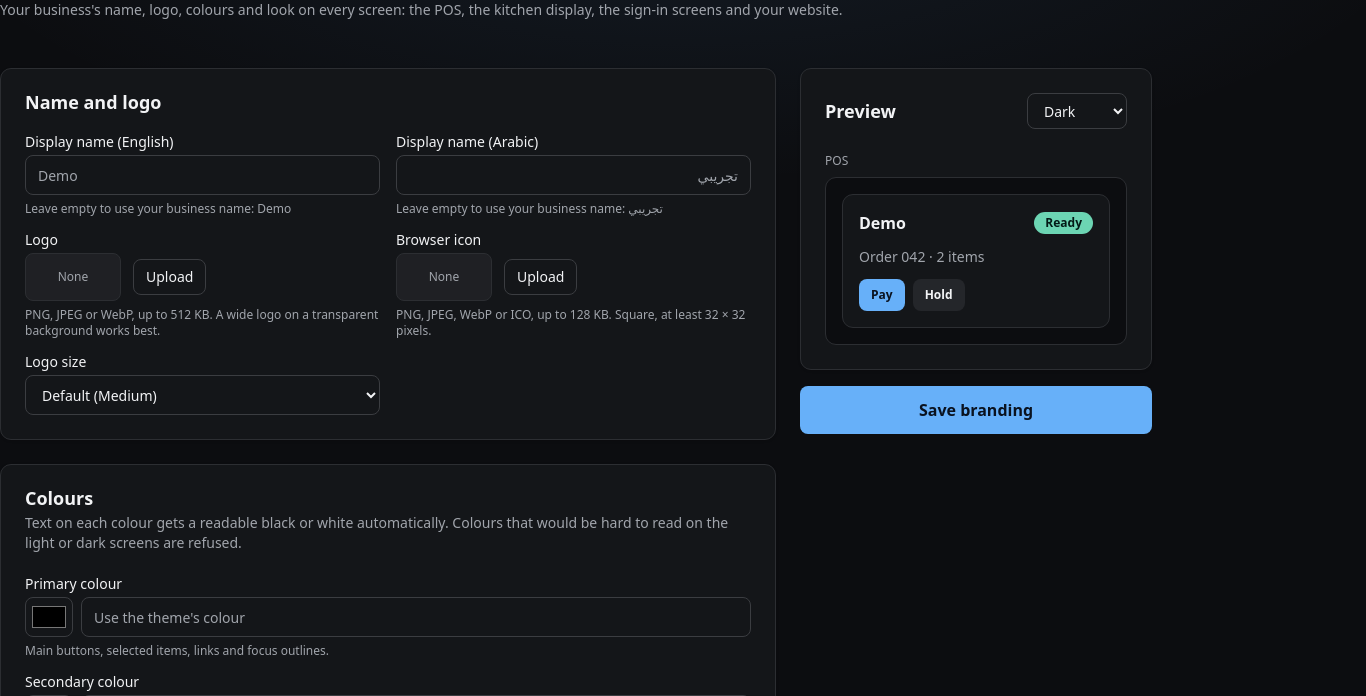
Test case: branding page › saves colours, look and a screen override, and previews them
In the field named "Primary colour (hex)": (416, 617) [81,597,751,637], type "#2563EB"
(page scrolled)
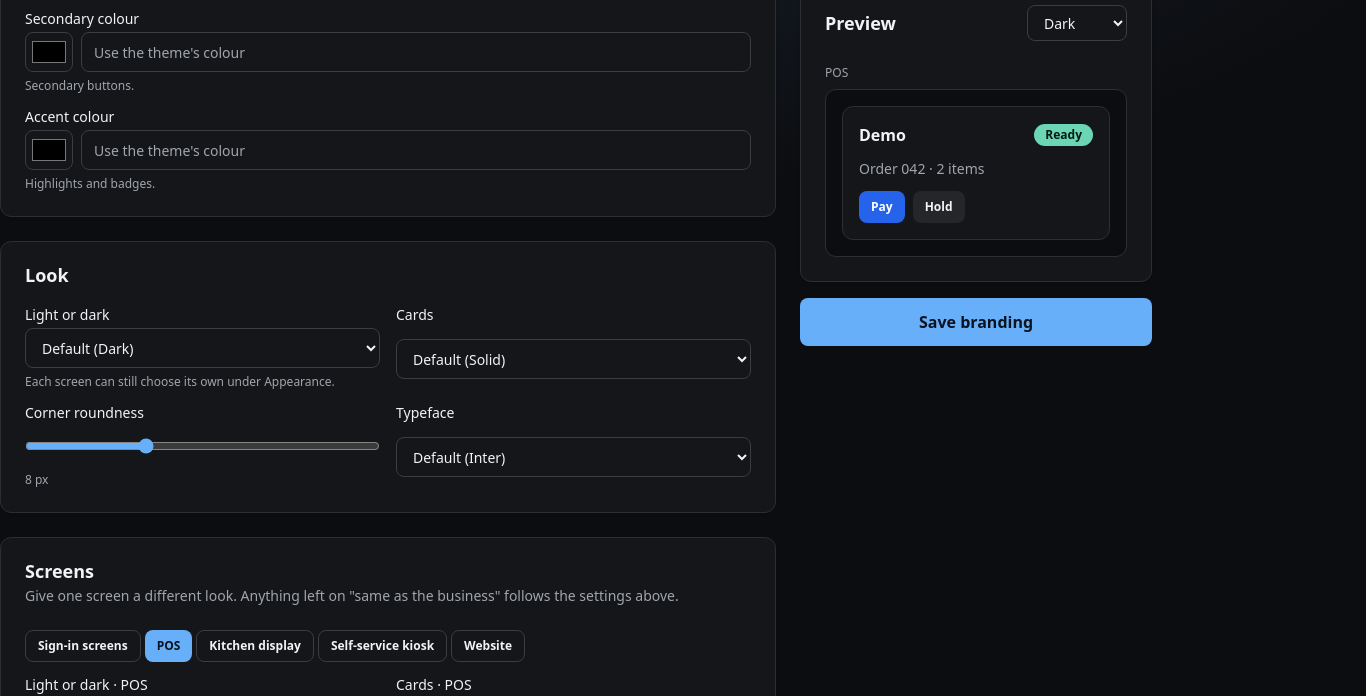
Select "Light" in the dropdown labelled "Light or dark": (202, 348) [25,328,380,368]
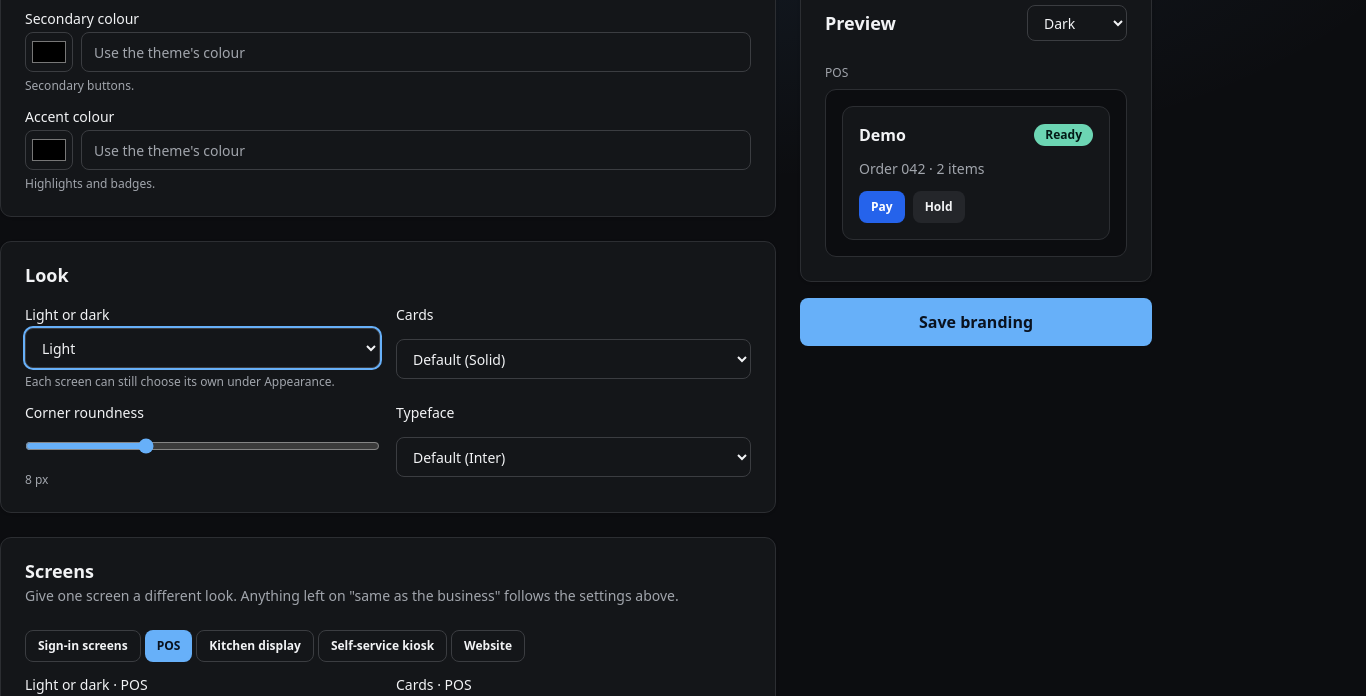
Select "Glass (translucent)" in the dropdown labelled "Cards": (574, 359) [396,339,751,379]
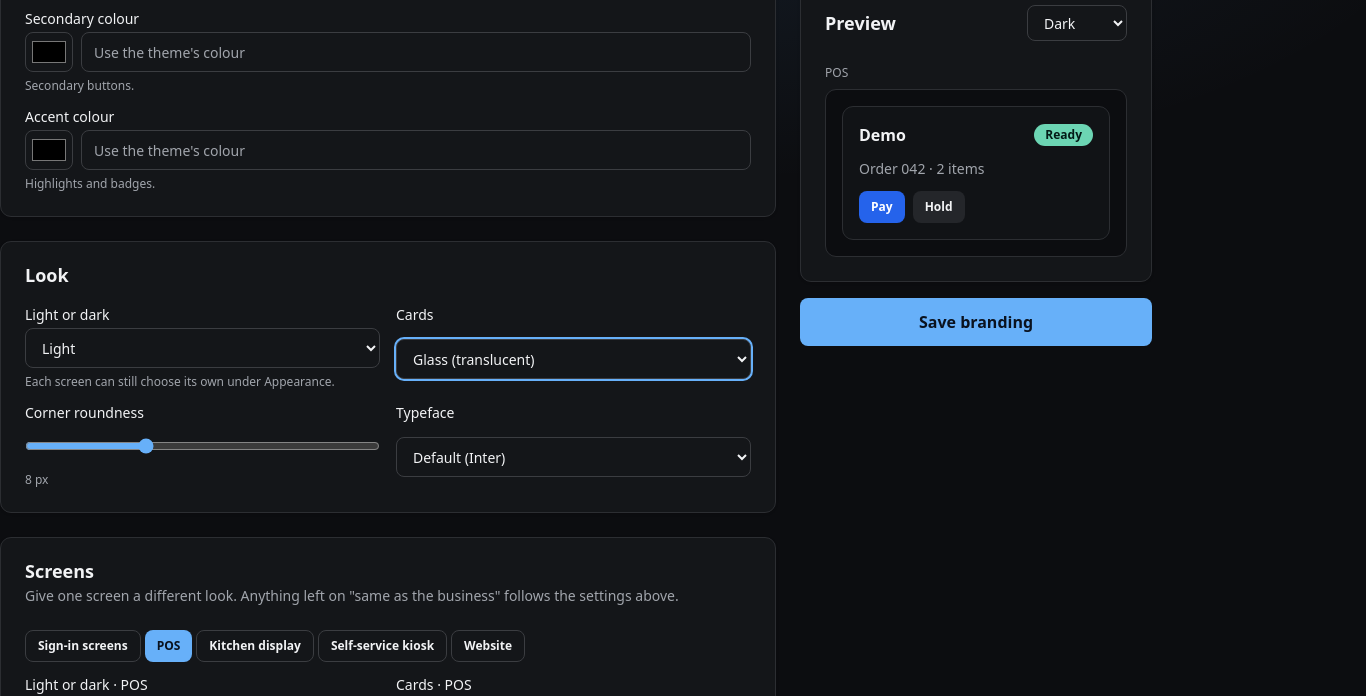
// The kitchen display stays dark.
Click the tab "Kitchen display": (255, 646) [196,630,314,662]
(page scrolled)
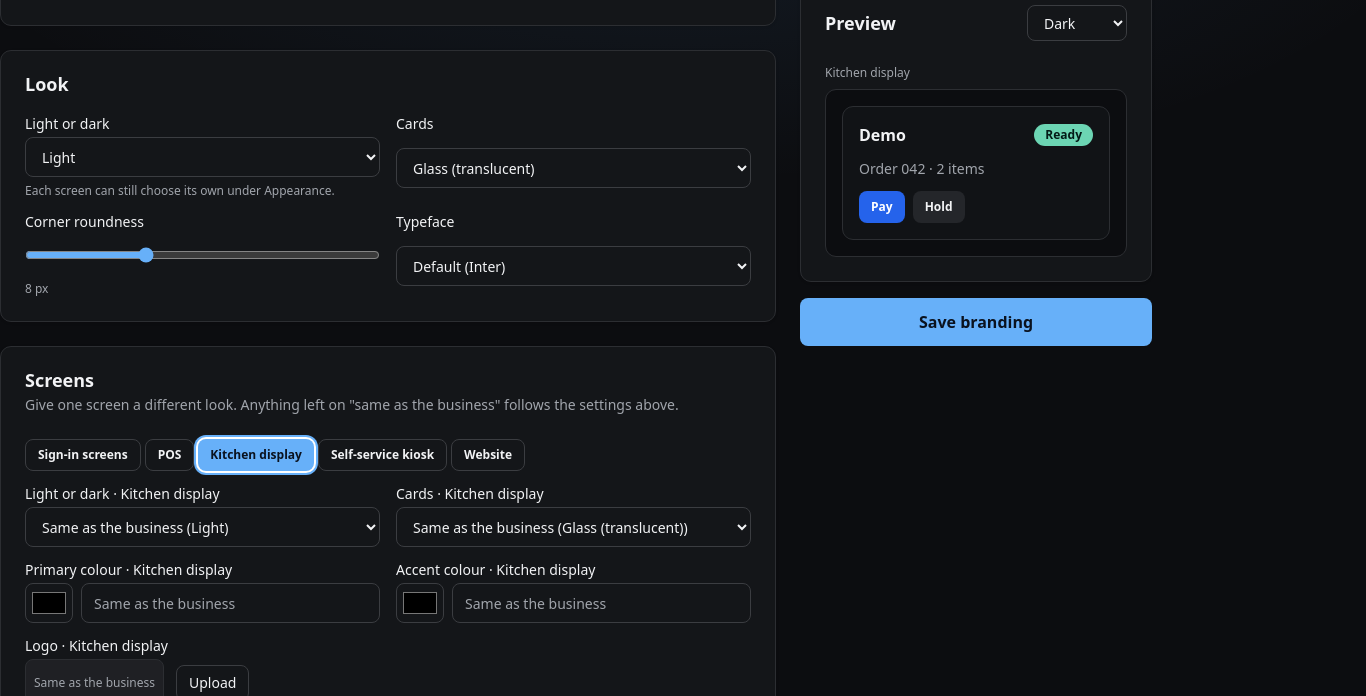
Select "Dark" in the dropdown labelled "Light or dark · Kitchen display": (202, 527) [25,507,380,547]
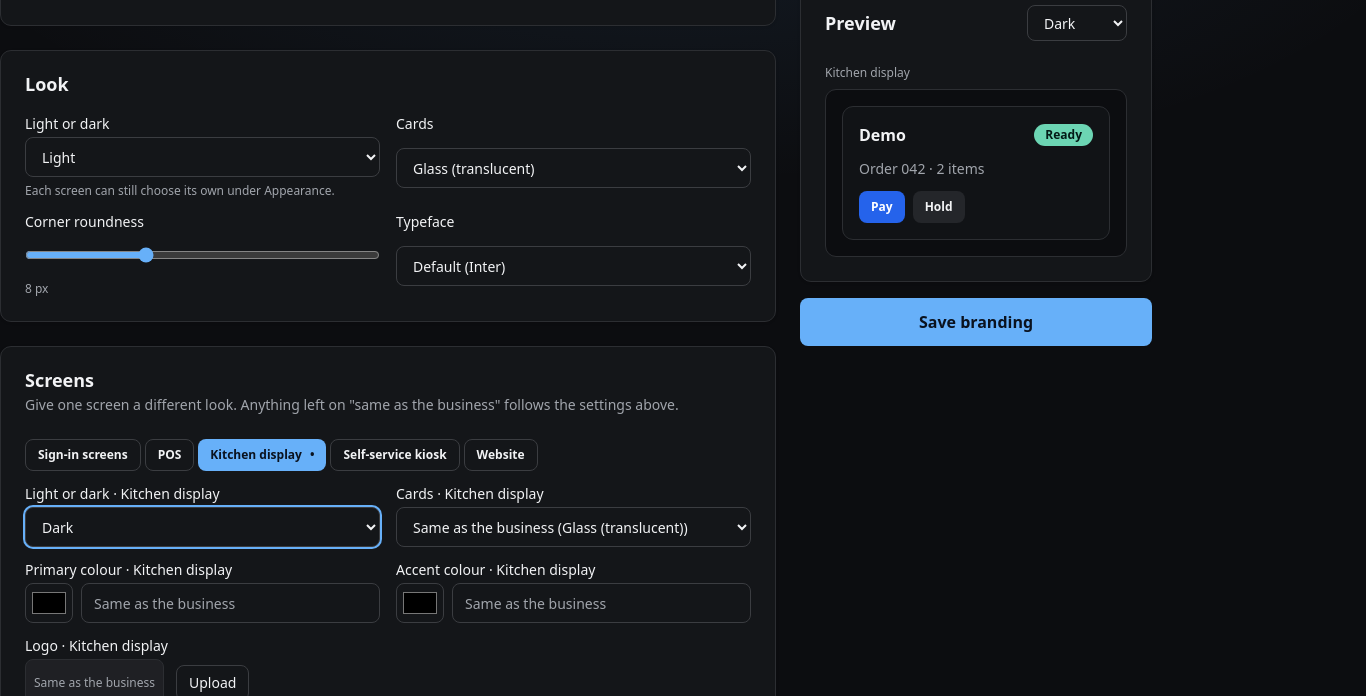
Expected: the element with test id "branding-preview" has attribute data-surface="glass", [825,89,1127,257]
Click the button "Save branding": (976, 322) [800,298,1152,346]
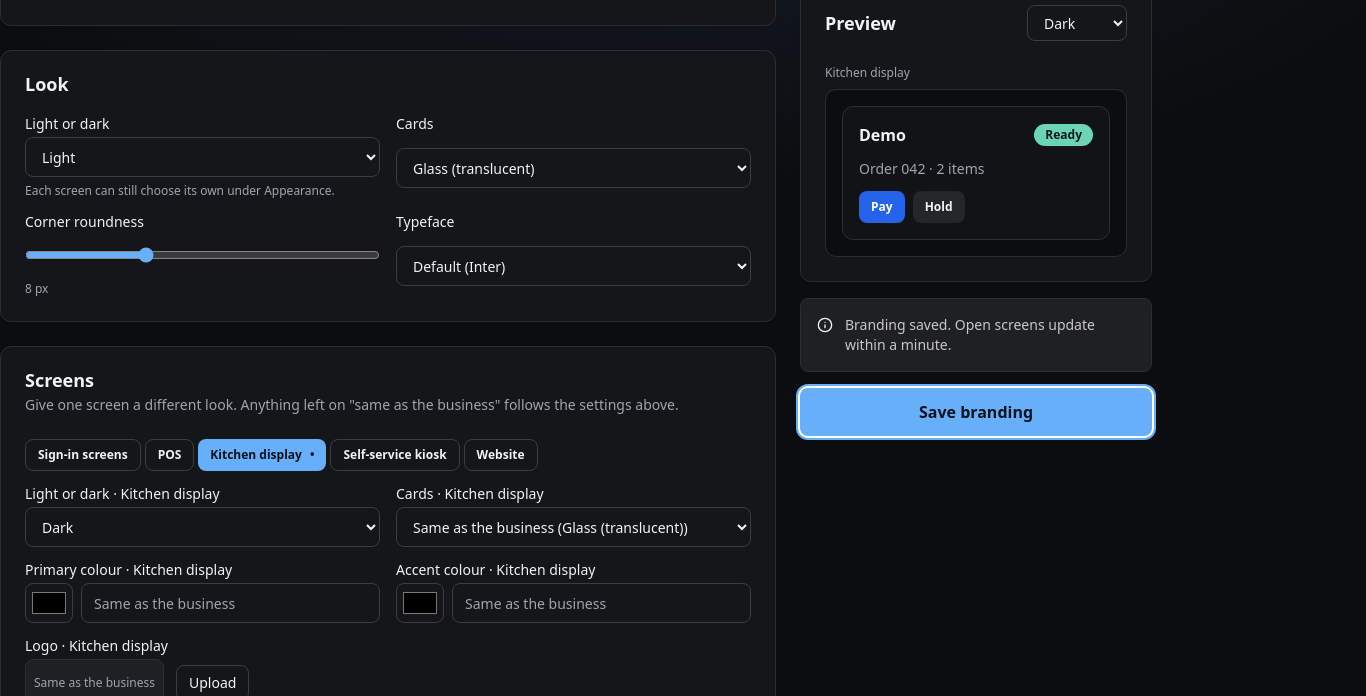
Expected: the text "Branding saved. Open screens update within a minute." is shown, [845,315,1135,355]
